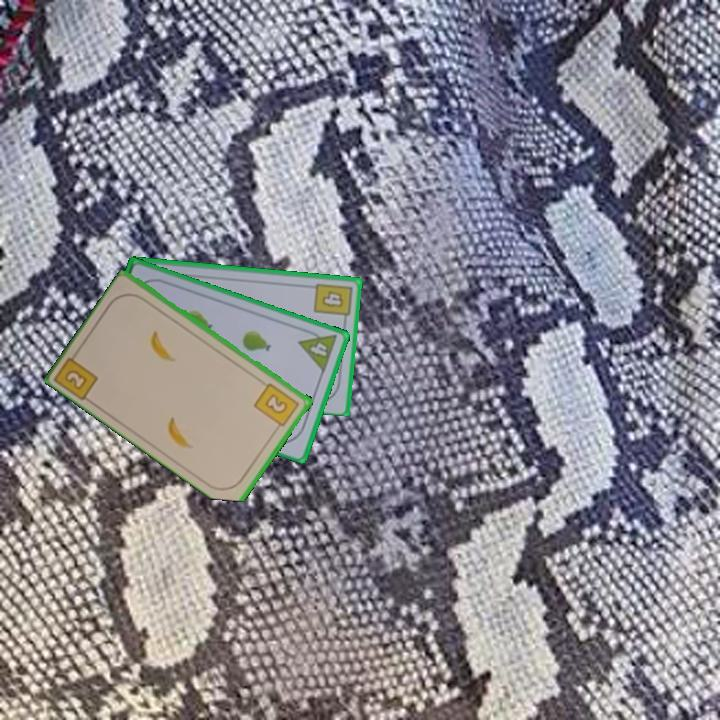2b: (251, 379, 302, 433), (53, 346, 101, 403)
4b: (310, 279, 355, 325)
4p: (295, 324, 340, 375)
